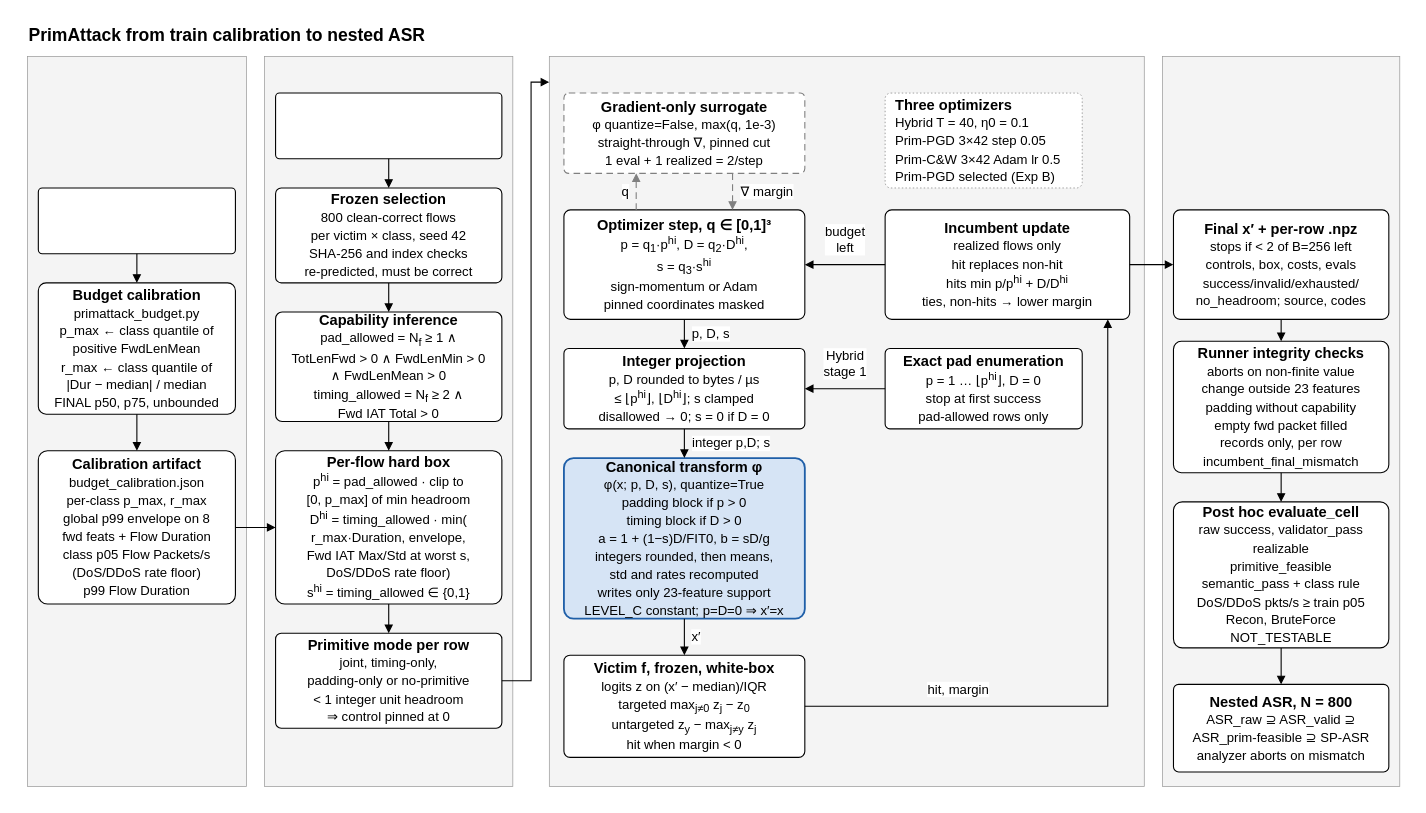
The diagram is 1426 pixels wide and 813 high, and some of its shapes have lost their labels. Here are the shapes that lost their labels. From the top down, the box of each, then its label:
(275, 92, 502, 159): TEST split, pristine raw source flows x
(37, 187, 236, 254): TRAIN split X_train_pristine.npy y_train_cat.npy
(27, 56, 246, 787): Offline, TRAIN split only
(264, 56, 513, 787): Per-cell setup on the TEST split
(549, 56, 1144, 787): RealizedSearch per flow, B = 256 evals
(1162, 56, 1400, 787): Post-attack evaluation
